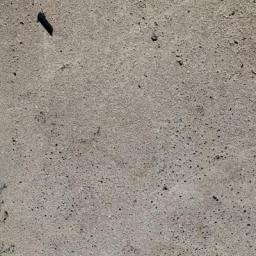FOD: (35, 9, 58, 41)
